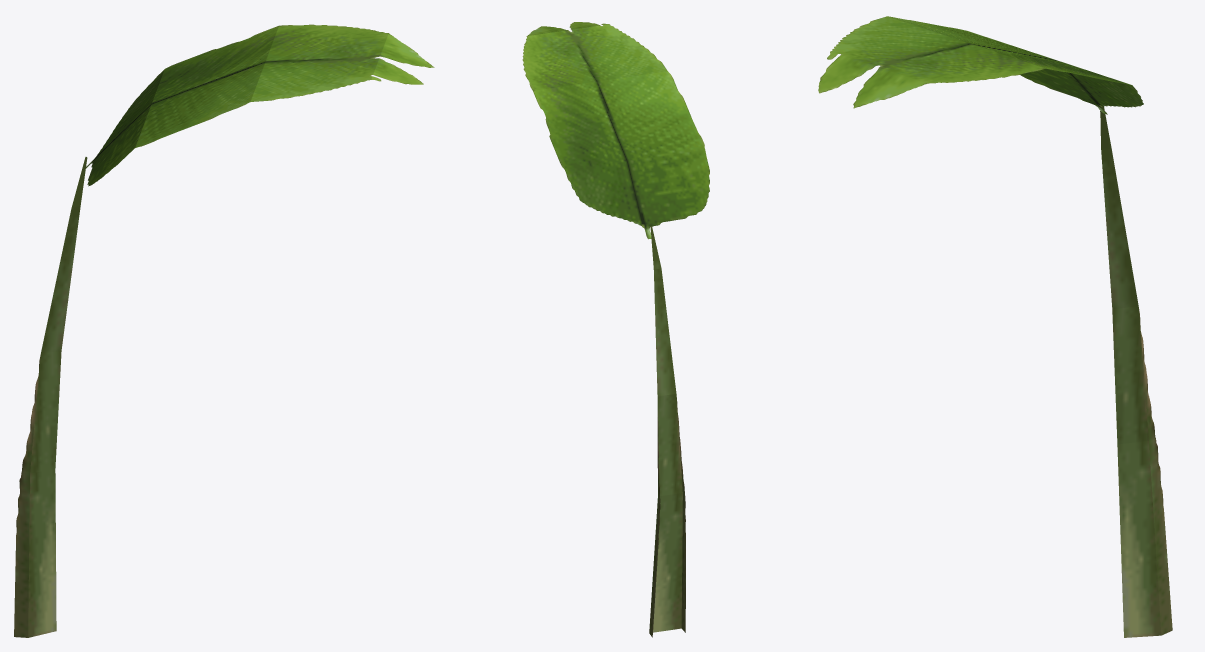
File: Bird_of_paradise_single.fbx
3 views of the same model, side by side, from view 1: azimuth 30°, elevation 25°; view 2: azimuth 150°, elevation 25°; view 3: azimuth 270°, elevation 25° (orthographic). The views are drawn at different scales.
Parts seen in each view (by area): view 1: Bird_of_paradise_single; view 2: Bird_of_paradise_single; view 3: Bird_of_paradise_single.
Part boxes in pixels (x1=…): Bird_of_paradise_single: x1=14, y1=24, x2=434, y2=637; Bird_of_paradise_single: x1=522, y1=22, x2=709, y2=637; Bird_of_paradise_single: x1=818, y1=16, x2=1172, y2=637.
Size of the model in its own units: 50.1 by 83.15 by 47.29.
1 material, 1 textured.
